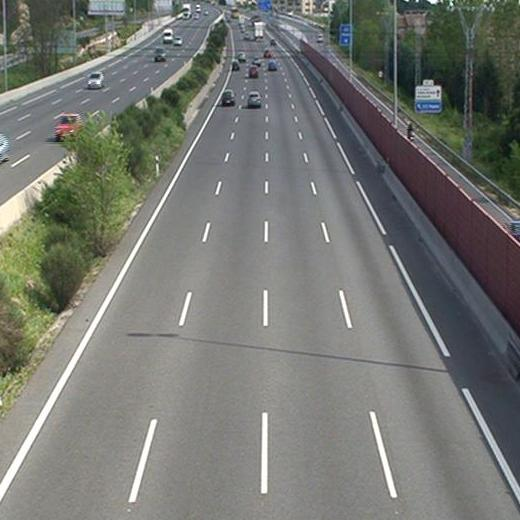car: (247, 92, 263, 108), (221, 90, 235, 106), (248, 64, 260, 79), (231, 60, 241, 72), (268, 61, 278, 71)
truck: (254, 22, 265, 40)
